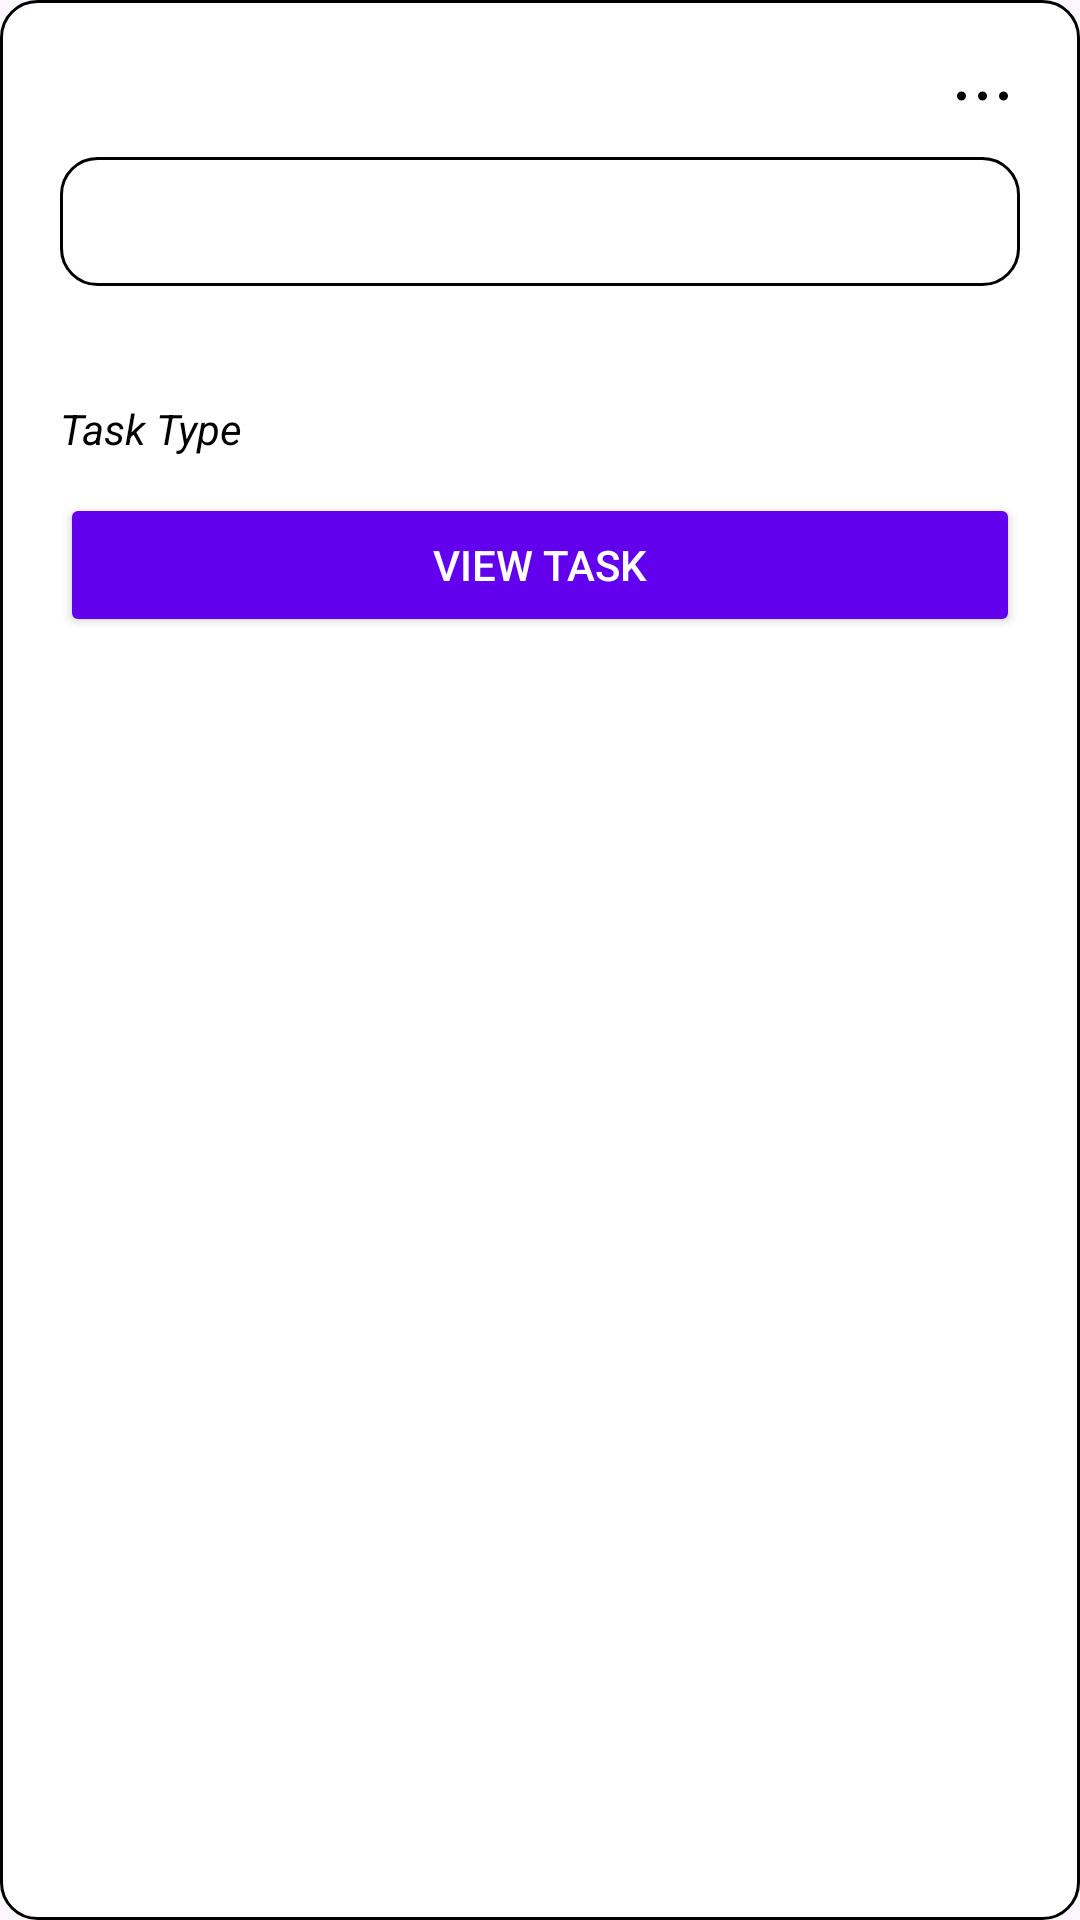

Point at icon controls on the screen. Image size 1080*1920, points as point (x, y).
Task menu: point (982, 96)
